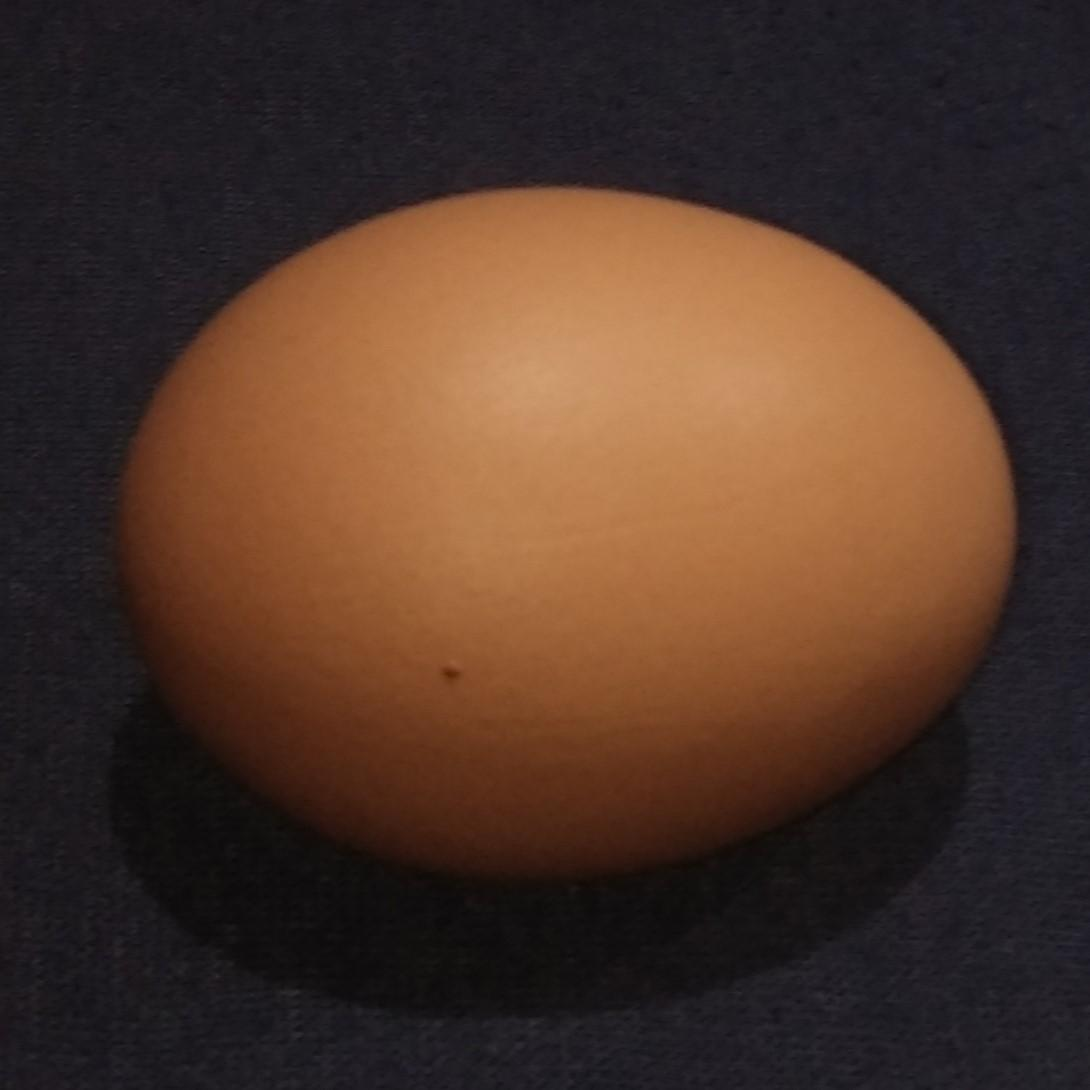egg: (121, 188, 1018, 885)
